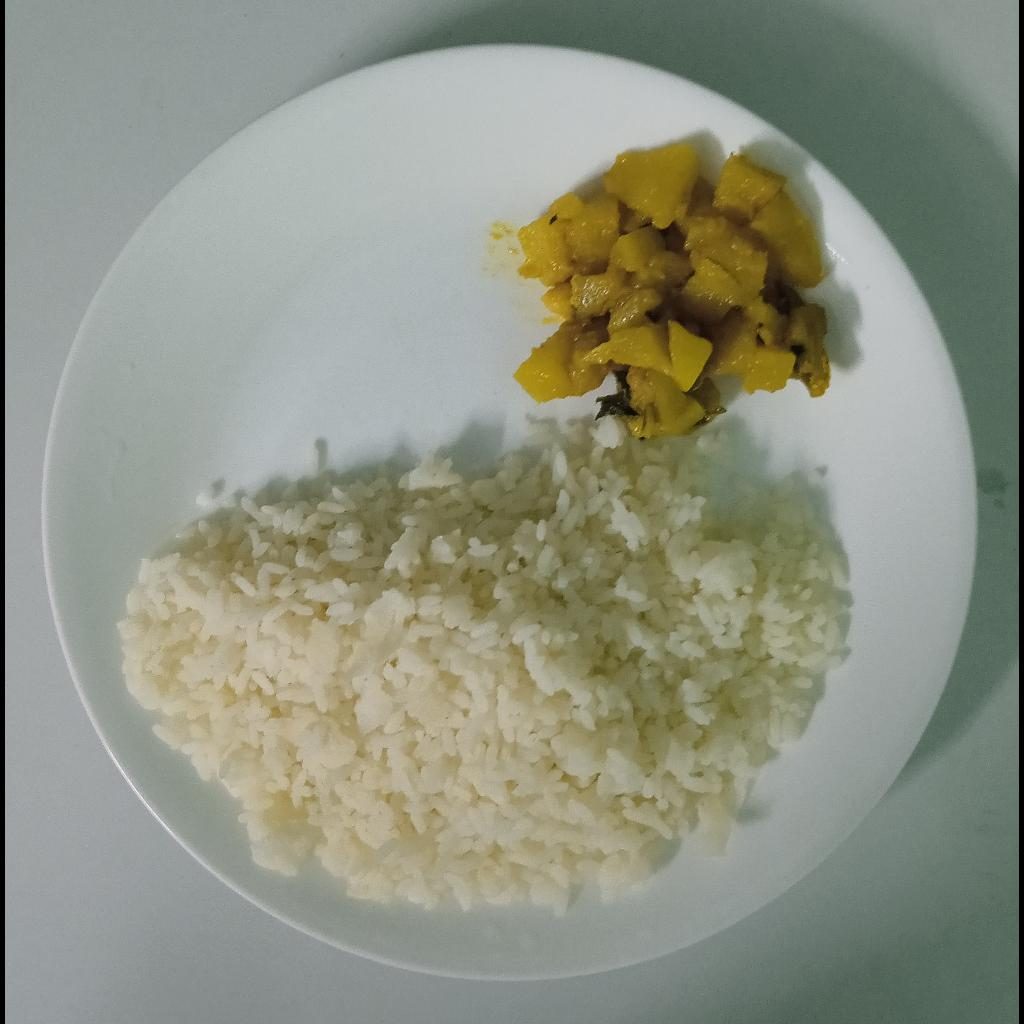kumra-vaji: (514, 143, 829, 437)
rice: (114, 416, 848, 918)
